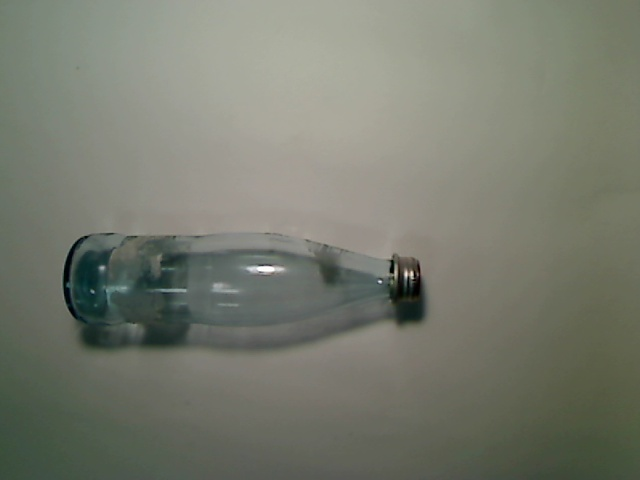bottle: (62, 229, 425, 329)
